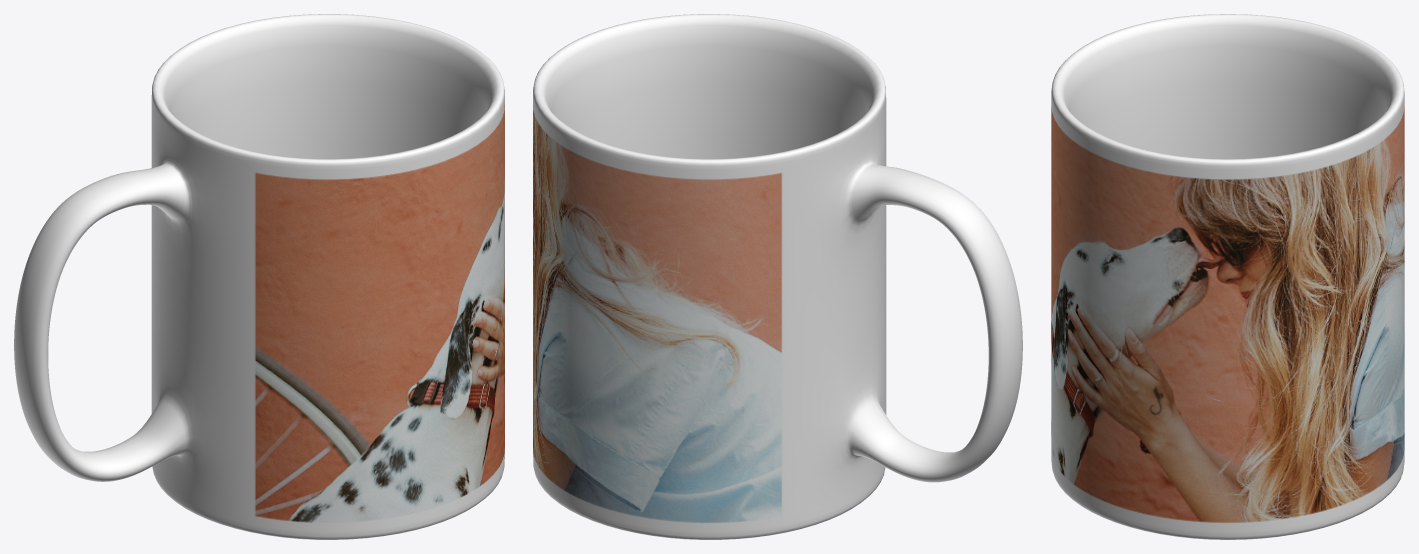
Rendered from mug.glb.
3 renders of one model, left to right at view 1: azimuth 30°, elevation 25°; view 2: azimuth 150°, elevation 25°; view 3: azimuth 270°, elevation 25°, orthographic.
Parts seen in each view (by area): view 1: Mug Front-View; view 2: Mug Front-View; view 3: Mug Front-View.
Part boxes in pixels (x1,y1,x2,y2): Mug Front-View: [14, 14, 504, 539]; Mug Front-View: [533, 14, 1022, 539]; Mug Front-View: [1051, 14, 1404, 539].
Bounding box in the file's own units: 0.1204 × 0.095 × 0.08.
1 material, 1 textured.
